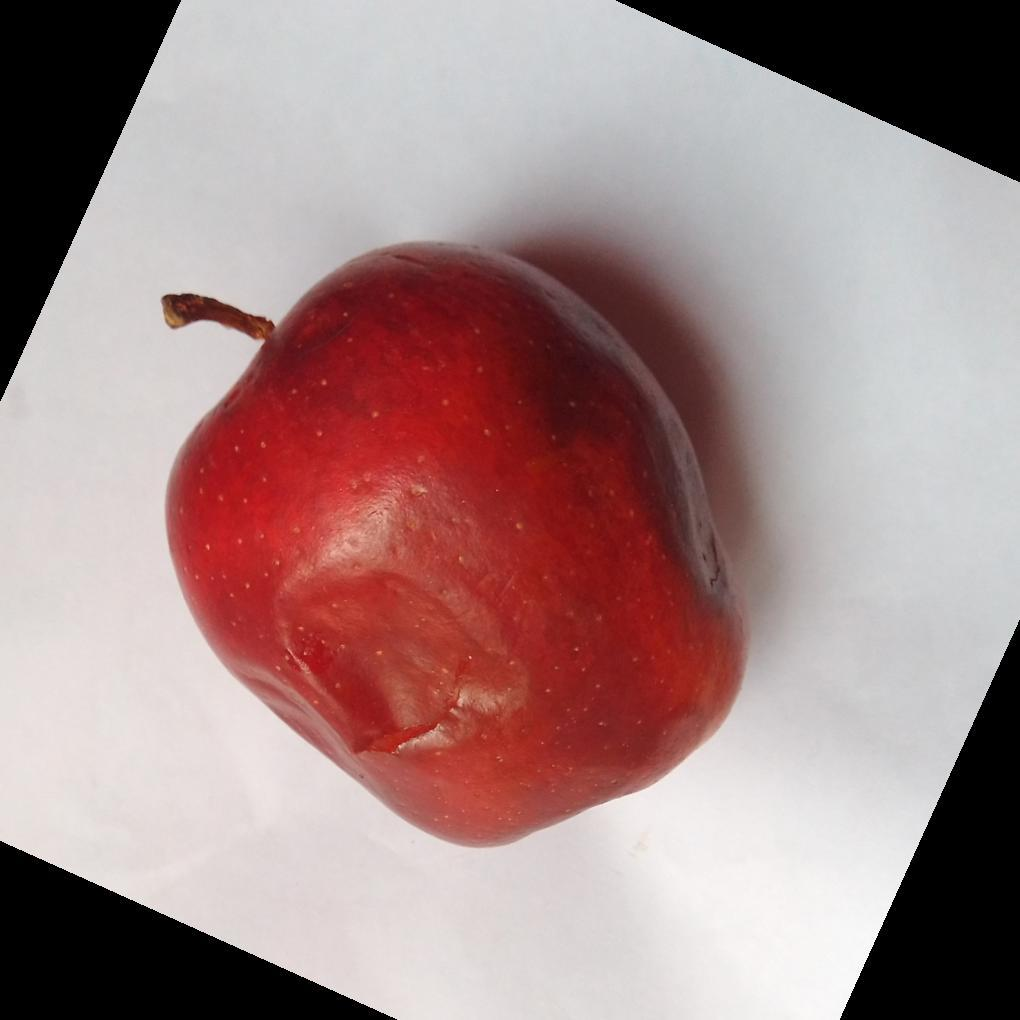FreshOrange: (164, 242, 747, 853)
